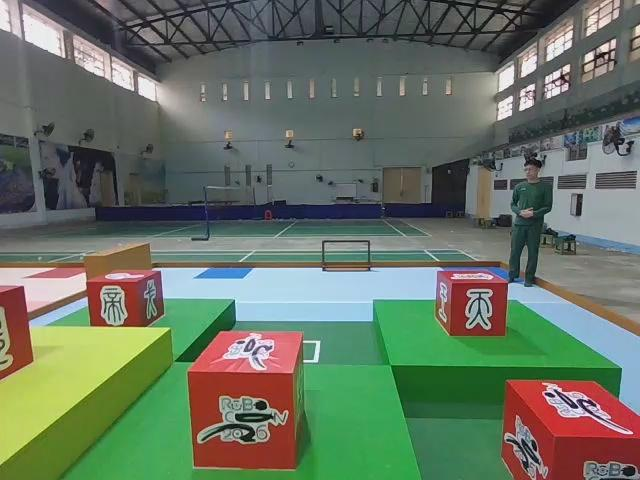R1: (186, 328, 307, 471), (499, 375, 640, 480)
R2 Fake: (435, 269, 510, 339), (85, 266, 165, 328)
